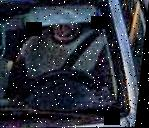seatbelt: (64, 24, 106, 68)
